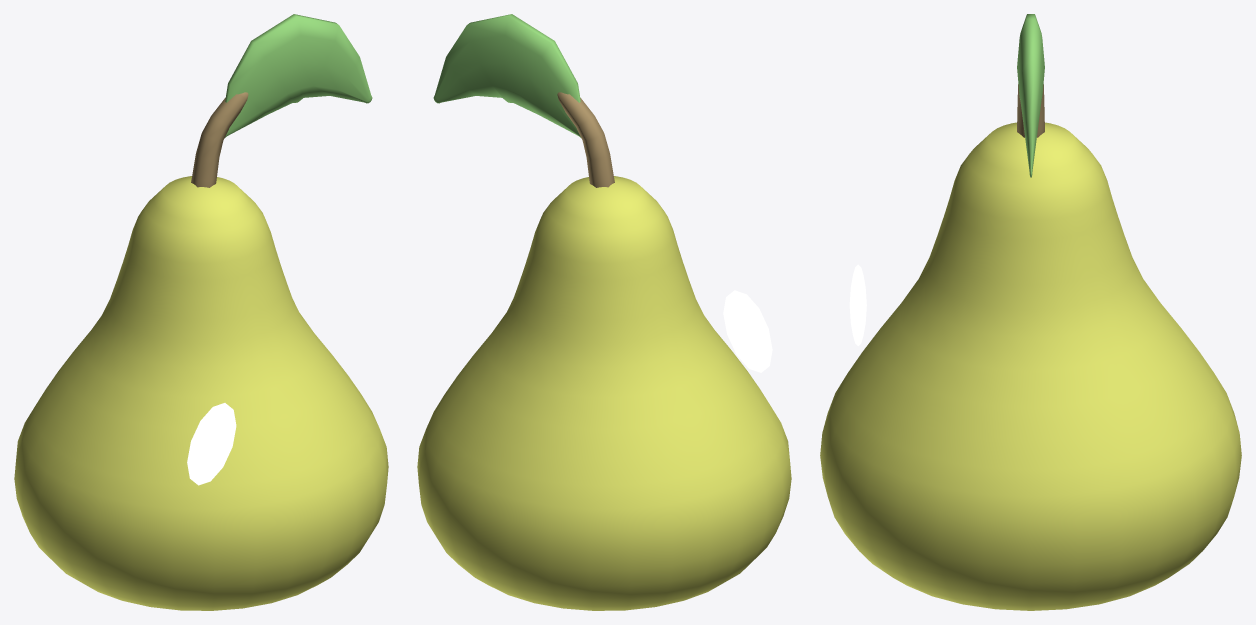
File: fruit_pear.glb
The picture shows the model from 3 angles, left to right: view 1: azimuth 30°, elevation 25°; view 2: azimuth 150°, elevation 25°; view 3: azimuth 270°, elevation 25°; orthographic projection. The views are drawn at different scales.
Visible parts, largest first — view 1: fruit_pear; view 2: fruit_pear; view 3: fruit_pear.
Boxes of the visible parts, x1=… form: fruit_pear: x1=14, y1=14, x2=388, y2=610; fruit_pear: x1=417, y1=14, x2=791, y2=610; fruit_pear: x1=820, y1=14, x2=1241, y2=610.
Bounding box in the file's own units: 0.3003 × 0.459 × 0.293.
